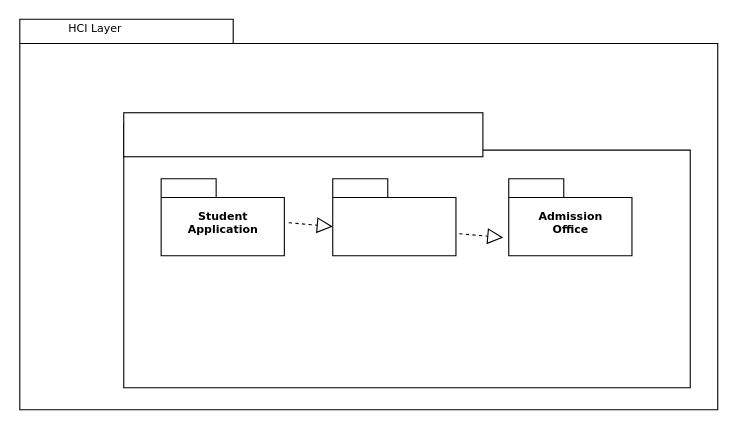
This 737x429 diagram has some shape labels left out. The shapes that lost their labels are listed below. From the top down, each one's centre as x and y in pixels, then its label:
At [303,134]: "student admissions ui".
At [394,217]: "Admission Processing".
